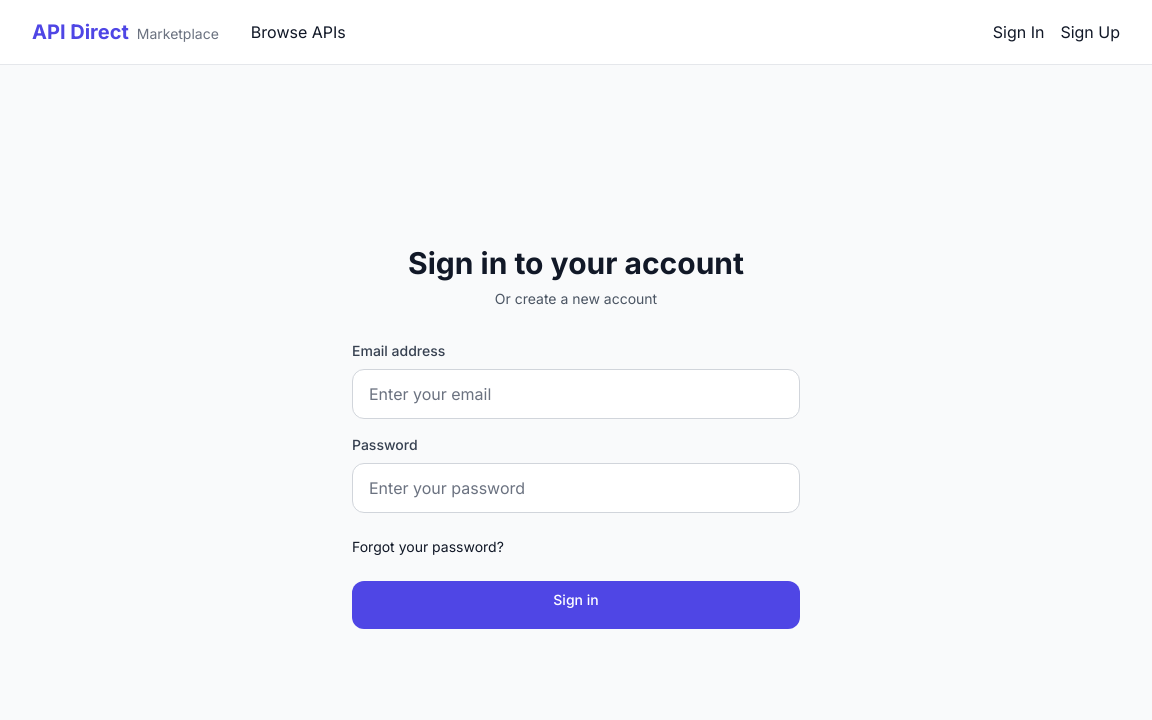
Test: Login Page › Form Validation › shows error for invalid email format
This screenshot has width=1152, height=720.
Type "invalid-email" into the field with placeholder "Enter your email" at coordinates (576, 394), box [352,369,800,419]
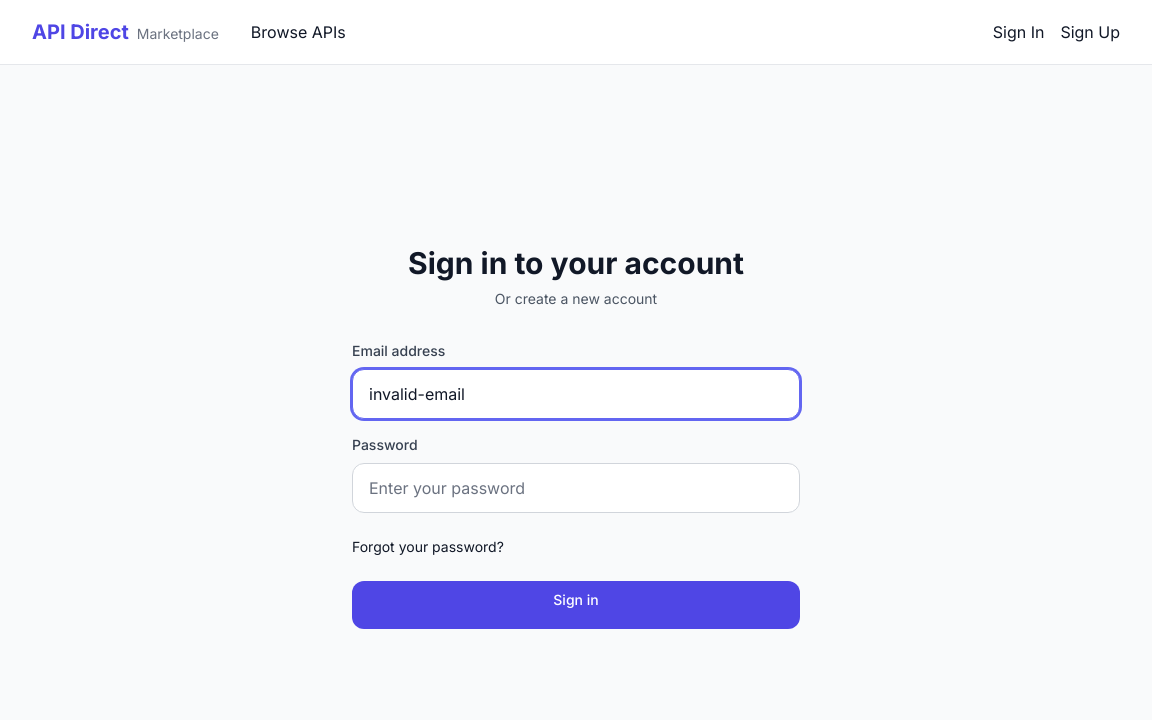
Type "password123" into the password field with placeholder "Enter your password" at coordinates (576, 488), box [352,463,800,513]
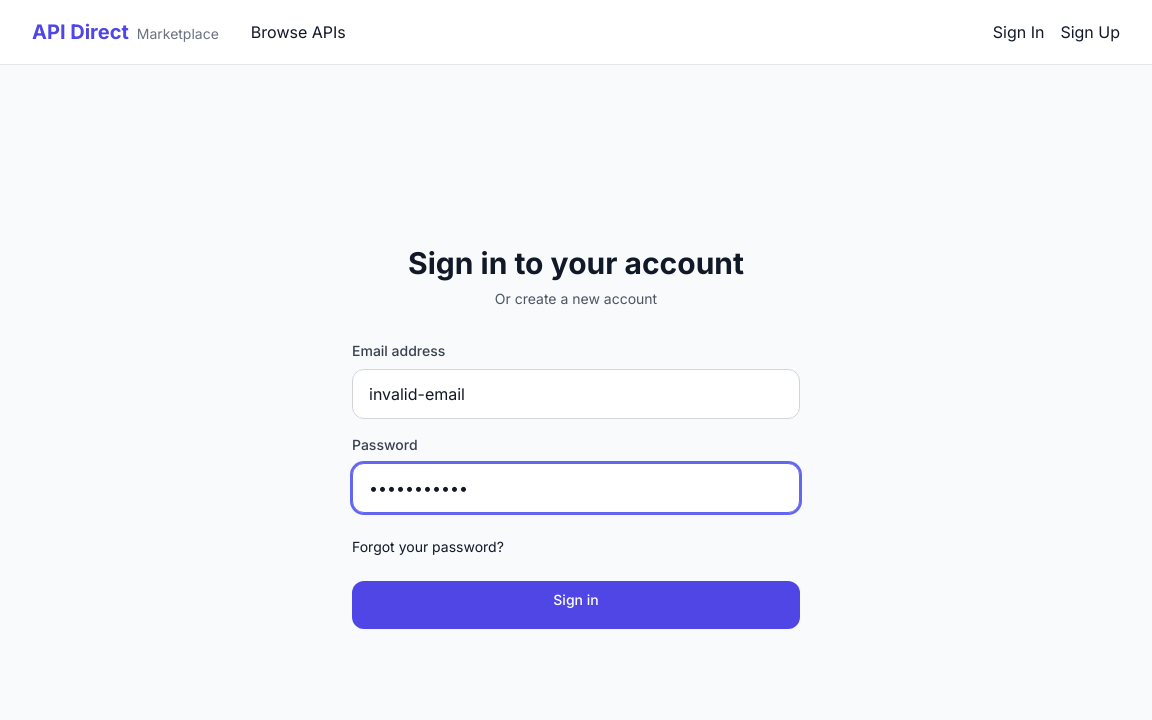
Click the button "Sign in" at coordinates (576, 605), box [352,581,800,629]
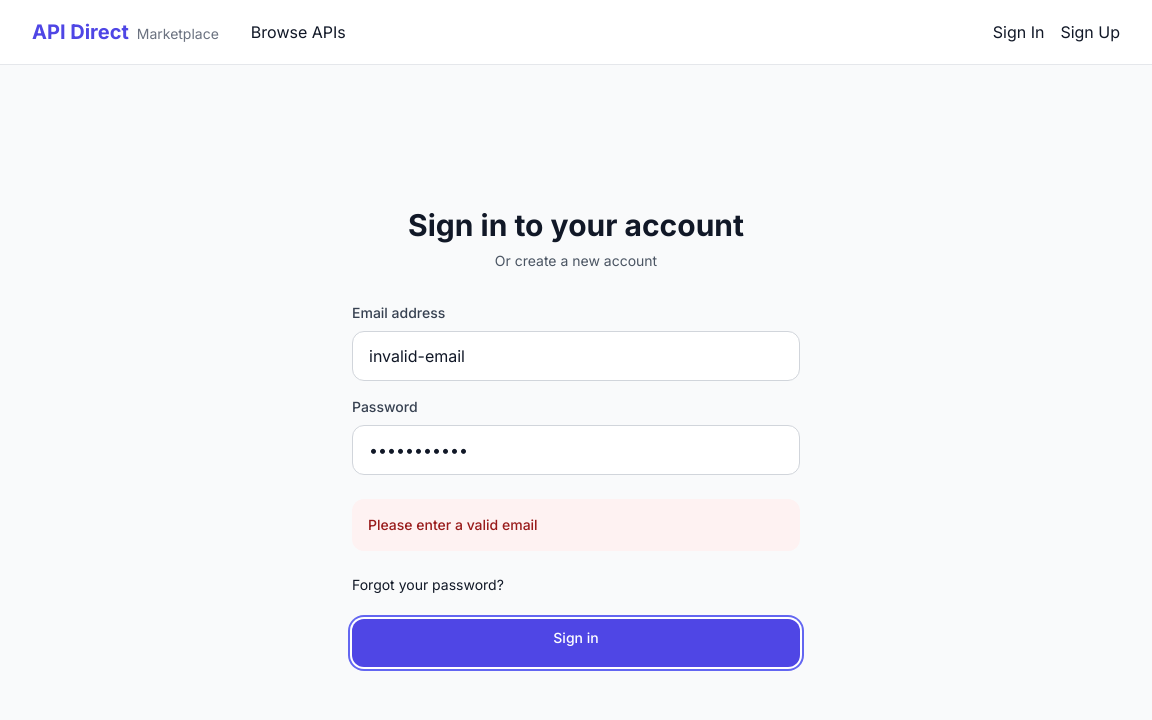
expect the heading "Please enter a valid email" is shown: met, box [368,516,538,533]
